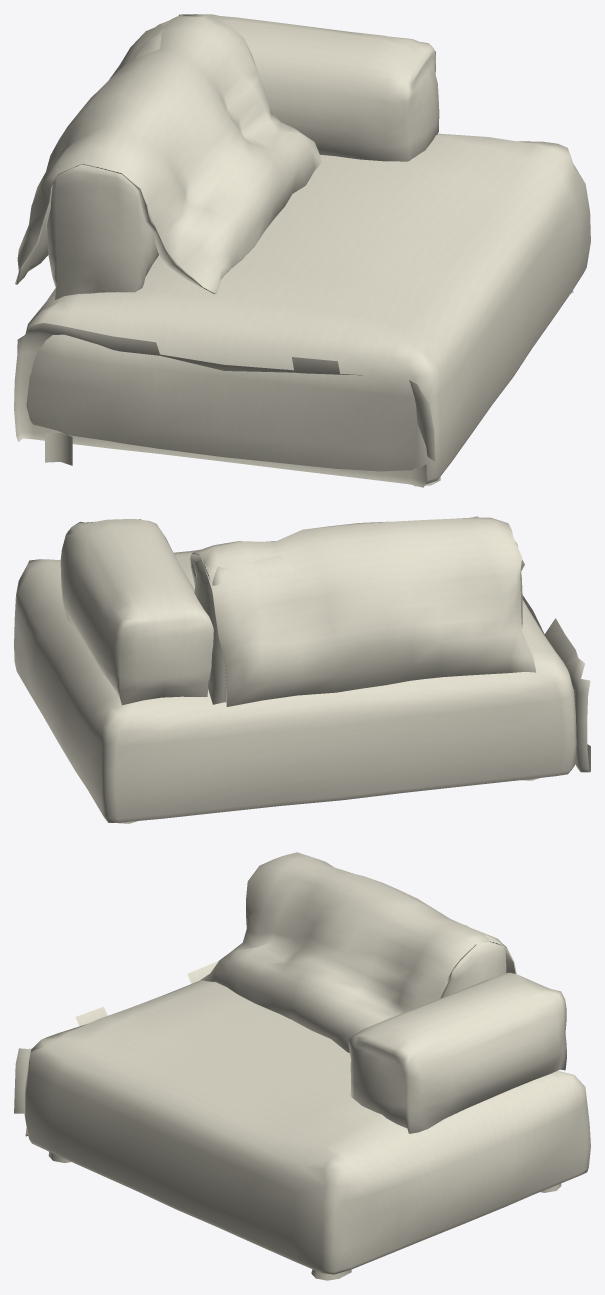
The model's file is RightSofa.fbx.
3 renders of one model, top to bottom at view 1: azimuth 30°, elevation 25°; view 2: azimuth 150°, elevation 25°; view 3: azimuth 270°, elevation 25°, orthographic. The views are drawn at different scales.
Parts seen in each view (by area): view 1: Sofa; view 2: Sofa; view 3: Sofa.
Boxes of the visible parts, box(x1,y1,x2,y2) form: Sofa: box(14, 14, 590, 487); Sofa: box(14, 516, 590, 823); Sofa: box(14, 852, 590, 1280).
Bounding box in the file's own units: 170 × 76.28 × 170.
